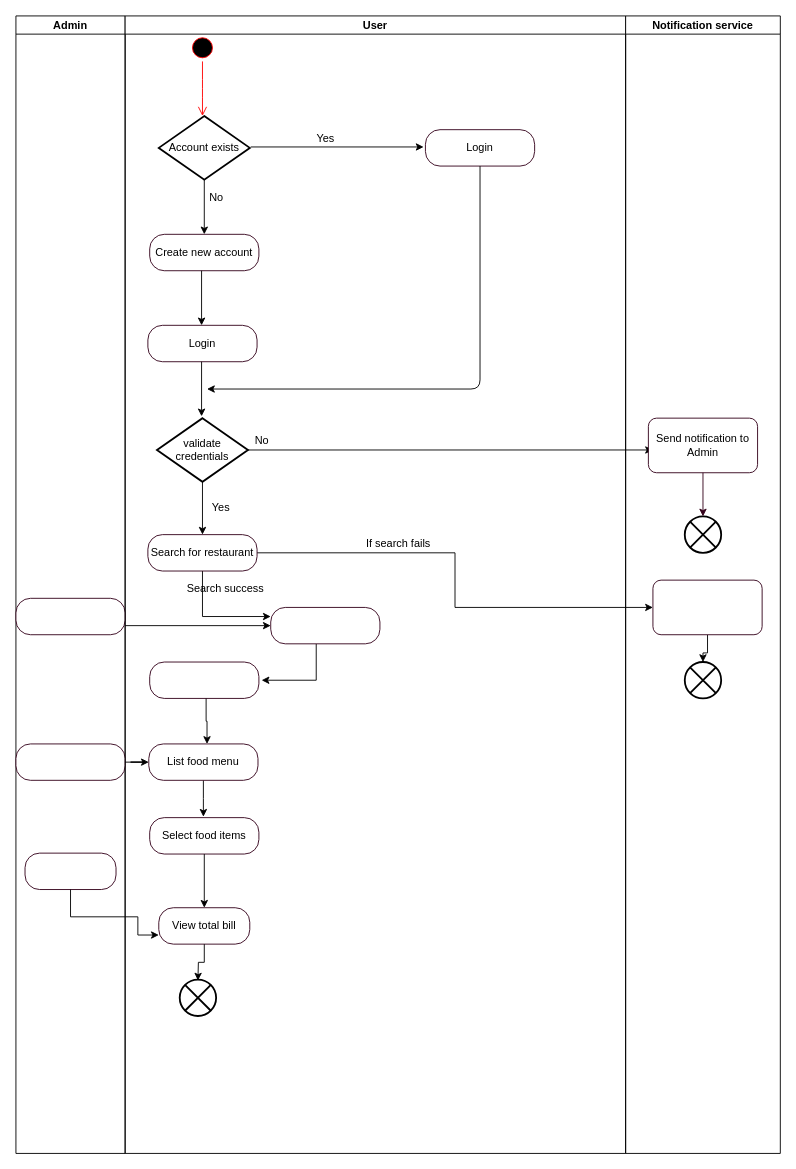
Image size: 796x1169. Some labels were removed from this diagram. The shapes that lost their labels are listed below. From the top down, each one's centre as x and y in pixels, then its label:
the point at 70,616: update restaurant details
the point at 325,625: Show Restaurant details
the point at 707,607: Send notification
the point at 204,679: Food Menu
the point at 70,761: Update food menu
the point at 70,871: update food bill
